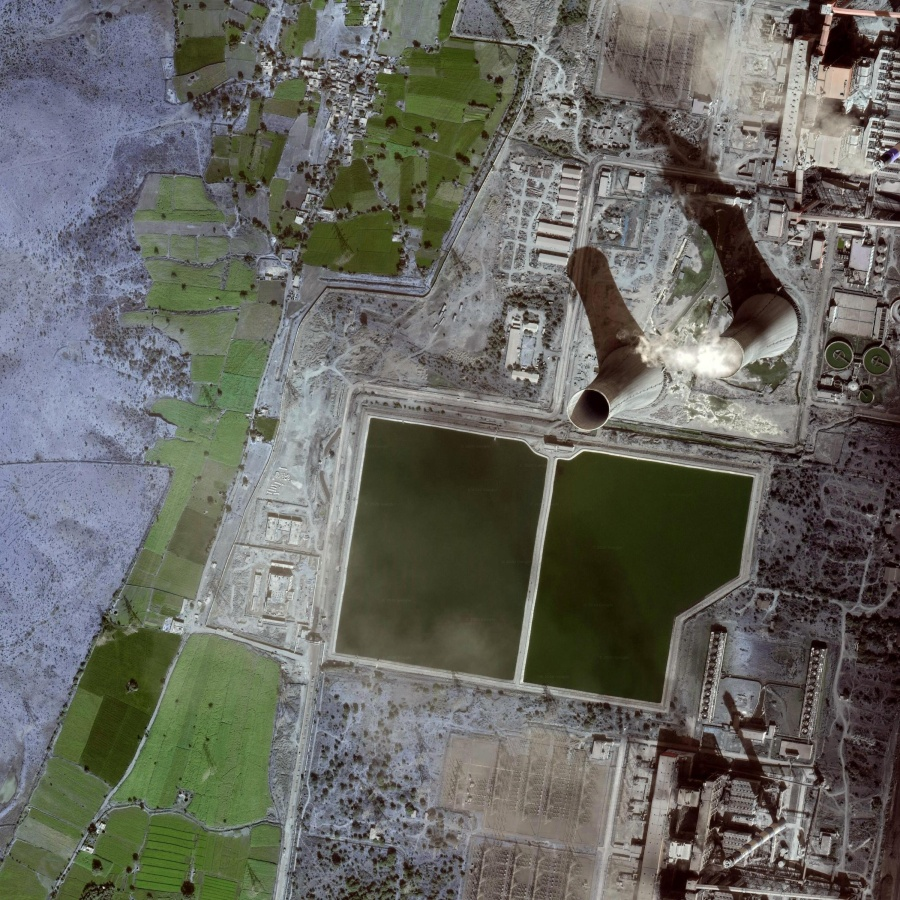PowerPlant: (322, 413, 760, 721)
